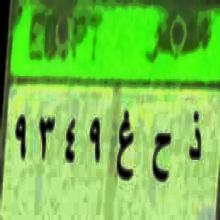3: (37, 107, 57, 172)
4: (63, 115, 80, 173)
7aa: (148, 128, 173, 189)
9: (86, 113, 105, 177), (13, 104, 30, 172)
ghayn: (110, 109, 138, 183)
zaal: (185, 106, 204, 174)
